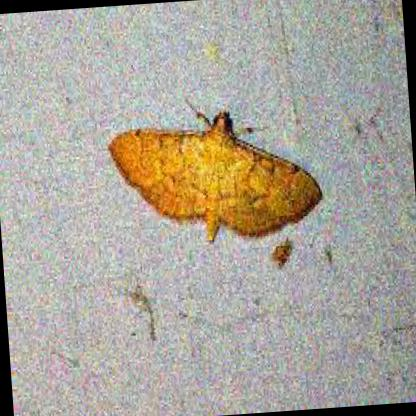Leaf Webber: (106, 111, 335, 252)
